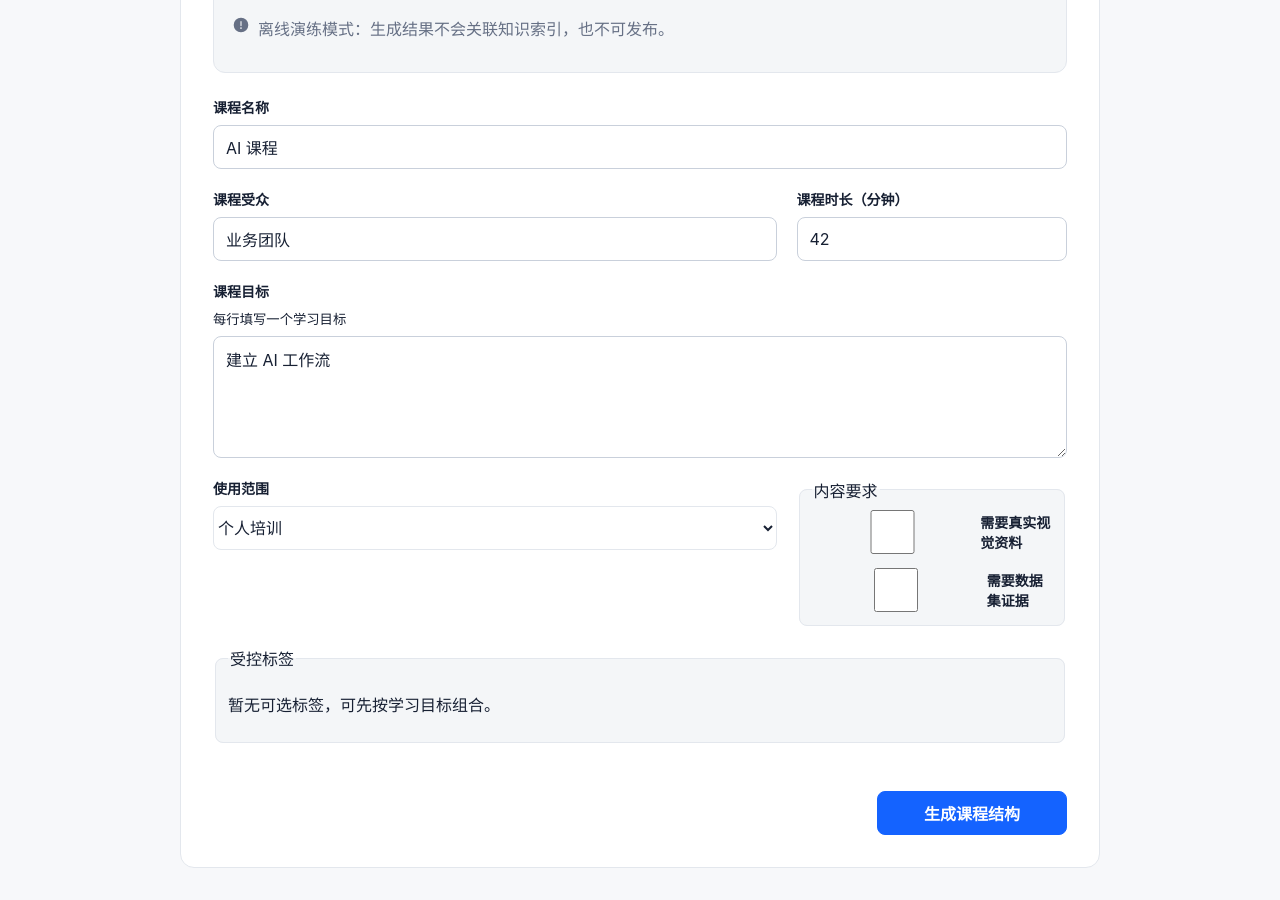
Test: 课程工作台 › rejects a duration outside the five-minute grid before invoking the agent
(page scrolled)
What coordinates should you click on to do the following:
click the button "生成课程结构"
I would click on:
 (972, 813)
Its box is top-left (877, 791), bottom-right (1067, 835).
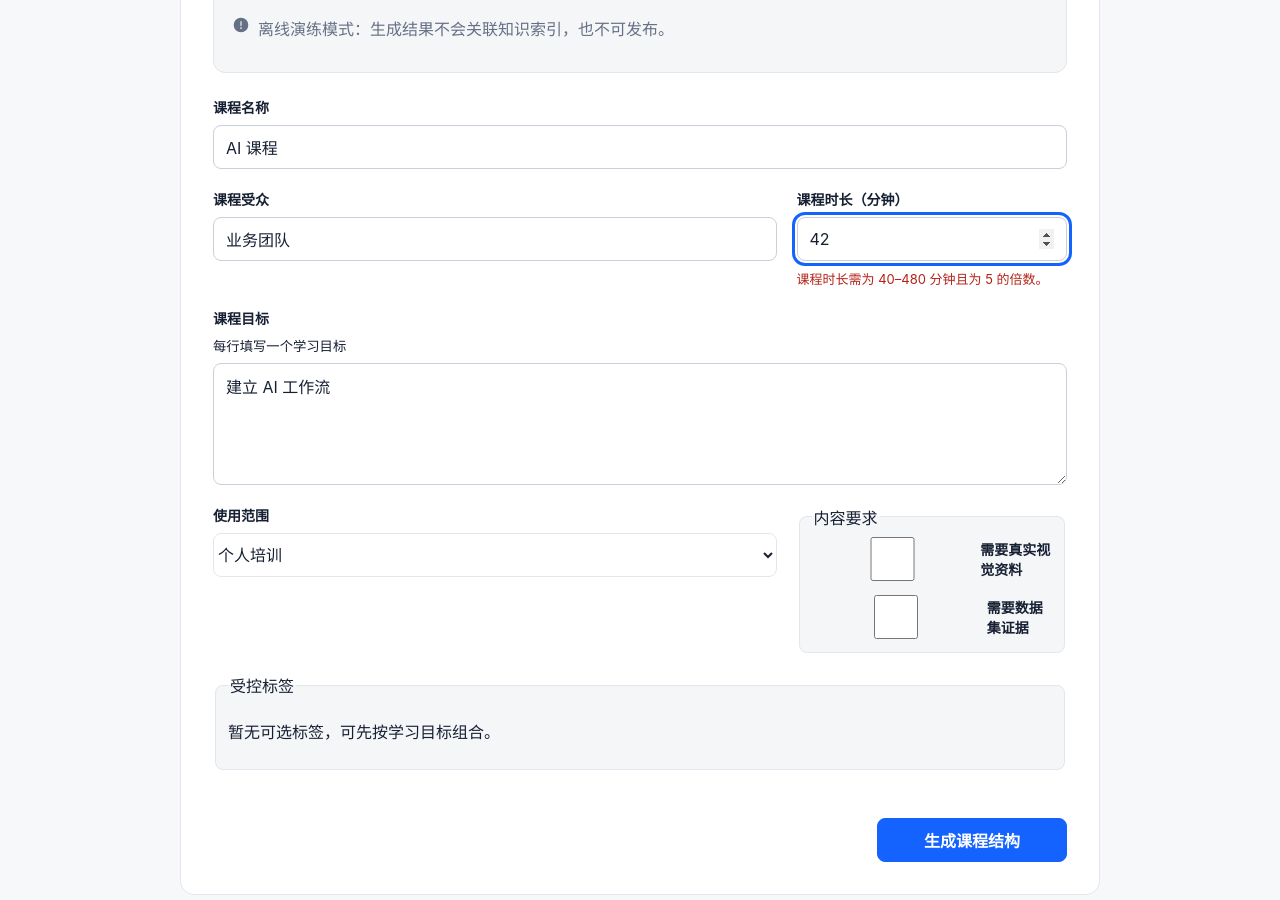
Check: the text "课程时长需为 40–480 分钟且为 5 的倍数。" is shown, box top-left (796, 269), bottom-right (1067, 288)
